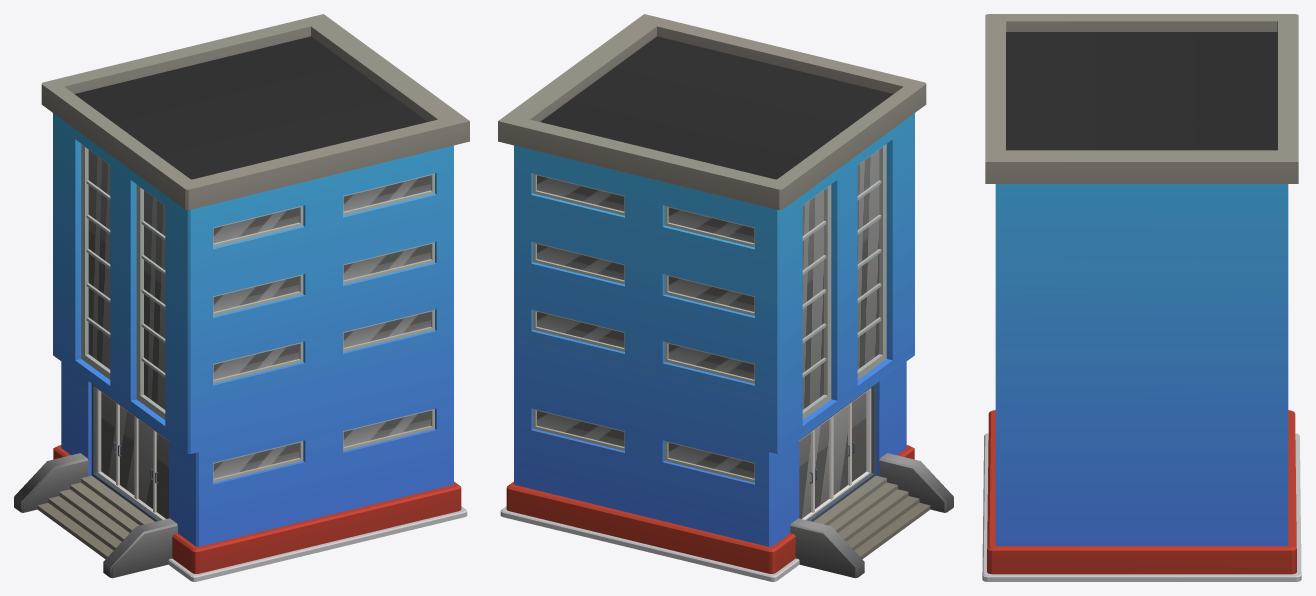
File: Building_26_A.fbx
3 views of the same model, side by side, from view 1: azimuth 30°, elevation 25°; view 2: azimuth 150°, elevation 25°; view 3: azimuth 270°, elevation 25° (orthographic). The views are drawn at different scales.
Visible parts, largest first — view 1: Building_26_A; view 2: Building_26_A; view 3: Building_26_A.
Part boxes in pixels (x1,y1,x2,y2): Building_26_A: (14, 14, 469, 581); Building_26_A: (498, 14, 953, 581); Building_26_A: (982, 14, 1301, 581).
Bounding box in the file's own units: 923 × 1037 × 712.
